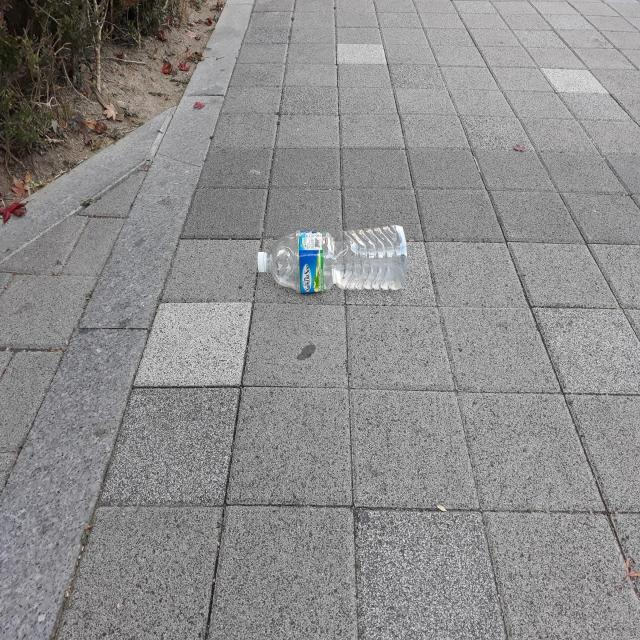plastic: (257, 224, 408, 292)
